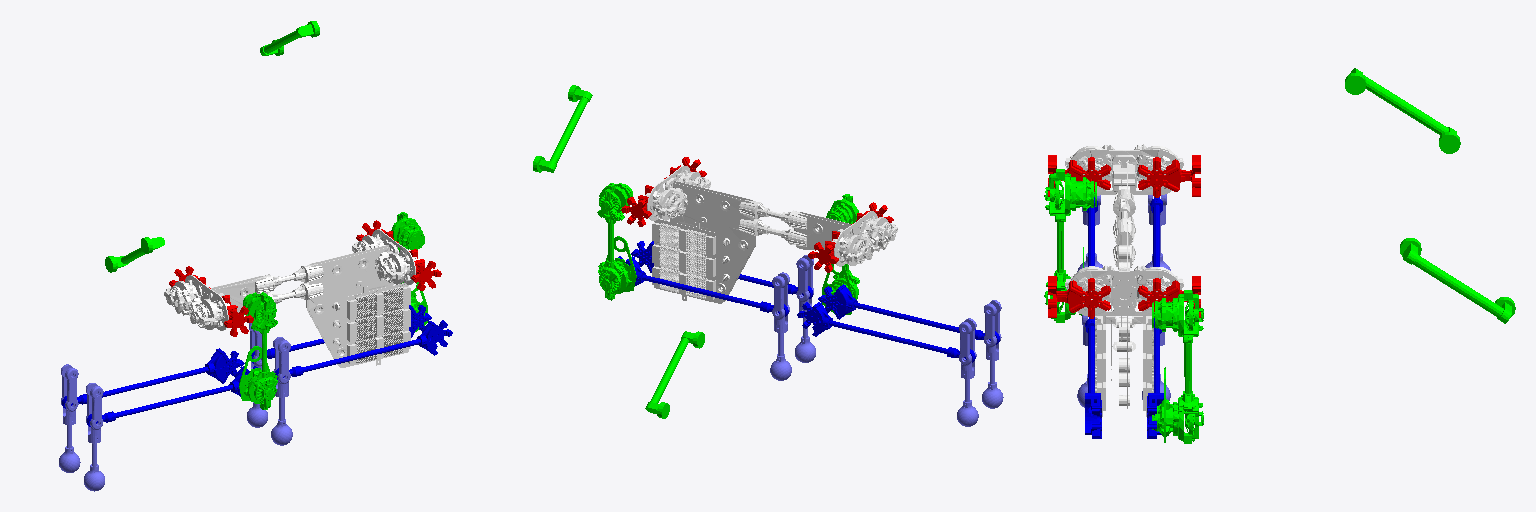
The robot description file, URDF, robot "husky":
<?xml version="1.0" encoding="utf-8"?>
<!-- This URDF was automatically created by SolidWorks to URDF Exporter! Originally created by [author] ([email redacted]) 
     Commit Version: 1.5.1-0-g916b5db  Build Version: 1.5.7152.31018
     For more information, please see http://wiki.ros.org/sw_urdf_exporter -->
<robot
  name="husky">H = massMatrix(robot)
  <link
    name="Body">
    <inertial>
      <origin
        xyz="0.021107 -5.5457E-05 -0.041523"
        rpy="0 0 0" />
      <mass
        value="0.82235" />
      <inertia
        ixx="0.00045992"
        ixy="8.2923E-13"
        ixz="1.9642E-05"
        iyy="0.00054448"
        iyz="3.0755E-08"
        izz="0.00032373" />
    </inertial>
    <visual>
      <origin
        xyz="0 0 0"
        rpy="0 0 0" />
      <geometry>
        <mesh
          filename="package://husky/meshes/Body.STL" />
      </geometry>
      <material
        name="">
        <color
          rgba="1 1 1 1" />
      </material>
    </visual>
    <collision>
      <origin
        xyz="0 0 0"
        rpy="0 0 0" />
      <geometry>
        <mesh
          filename="package://husky/meshes/Body.STL" />
      </geometry>
    </collision>
  </link>
  <link
    name="hip_rl">
    <inertial>
      <origin
        xyz="0.024751 -0.0025459 -6.0284E-05"
        rpy="0 0 0" />
      <mass
        value="0.035944" />
      <inertia
        ixx="9.4368E-06"
        ixy="2.3932E-06"
        ixz="-7.3784E-08"
        iyy="2.7076E-05"
        iyz="5.0995E-09"
        izz="2.4422E-05" />
    </inertial>
    <visual>
      <origin
        xyz="0 0 0"
        rpy="0 0 0" />
      <geometry>
        <mesh
          filename="package://husky/meshes/hip_rl.STL" />
      </geometry>
      <material
        name="">
        <color
          rgba="1 0 0 1" />
      </material>
    </visual>
    <collision>
      <origin
        xyz="0 0 0"
        rpy="0 0 0" />
      <geometry>
        <mesh
          filename="package://husky/meshes/hip_rl.STL" />
      </geometry>
    </collision>
  </link>
  <joint
    name="hip_rl_ab"
    type="revolute">
    <origin
      xyz="-0.19745 0.045 0"
      rpy="0 0 0" />
    <parent
      link="Body" />
    <child
      link="hip_rl" />
    <axis
      xyz="-1 0 0" />
    <limit
      lower="-3.14"
      upper="3.14"
      effort="1000"
      velocity="1000" />
  </joint>
  <link
    name="femur_rl">
    <inertial>
      <origin
        xyz="-2.704E-07 0.036112 -0.082829"
        rpy="0 0 0" />
      <mass
        value="0.1521" />
      <inertia
        ixx="4.3927E-05"
        ixy="6.9154E-10"
        ixz="-1.8319E-08"
        iyy="6.2109E-05"
        iyz="4.5878E-10"
        izz="2.7563E-05" />
    </inertial>
    <visual>
      <origin
        xyz="0 0 0"
        rpy="0 0 0" />
      <geometry>
        <mesh
          filename="package://husky/meshes/femur_rl.STL" />
      </geometry>
      <material
        name="">
        <color
          rgba="0 1 0 1" />
      </material>
    </visual>
    <collision>
      <origin
        xyz="0 0 0"
        rpy="0 0 0" />
      <geometry>
        <mesh
          filename="package://husky/meshes/femur_rl.STL" />
      </geometry>
    </collision>
  </link>
  <joint
    name="hip_rl_ex"
    type="revolute">
    <origin
      xyz="0.053 -0.007 0"
      rpy="0 0 0" />
    <parent
      link="hip_rl" />
    <child
      link="femur_rl" />
    <axis
      xyz="0 1 0" />
    <limit
      lower="-3.14"
      upper="3.14"
      effort="1000"
      velocity="1000" />
  </joint>
  <link
    name="tibia_rl">
    <inertial>
      <origin
        xyz="-0.10575 0.0039831 1.084E-05"
        rpy="0 0 0" />
      <mass
        value="0.038628" />
      <inertia
        ixx="7.1252E-06"
        ixy="1.0931E-06"
        ixz="-8.0061E-10"
        iyy="3.484E-05"
        iyz="-1.6386E-09"
        izz="2.9866E-05" />
    </inertial>
    <visual>
      <origin
        xyz="0 0 0"
        rpy="0 0 0" />
      <geometry>
        <mesh
          filename="package://husky/meshes/tibia_rl.STL" />
      </geometry>
      <material
        name="">
        <color
          rgba="0 0 1 1" />
      </material>
    </visual>
    <collision>
      <origin
        xyz="0 0 0"
        rpy="0 0 0" />
      <geometry>
        <mesh
          filename="package://husky/meshes/tibia_rl.STL" />
      </geometry>
    </collision>
  </link>
  <joint
    name="knee_rl"
    type="revolute">
    <origin
      xyz="0 0 -0.158"
      rpy="0 0 0" />
    <parent
      link="femur_rl" />
    <child
      link="tibia_rl" />
    <axis
      xyz="0 -1 0" />
    <limit
      lower="-3.14"
      upper="3.14"
      effort="1000"
      velocity="1000" />
  </joint>
  <link
    name="tarsus_rl">
    <inertial>
      <origin
        xyz="3.6446E-11 2.4923E-10 -0.054555"
        rpy="0 0 0" />
      <mass
        value="0.18284" />
      <inertia
        ixx="0.00012076"
        ixy="-8.5139E-12"
        ixz="-6.9478E-13"
        iyy="0.00011699"
        iyz="3.7744E-12"
        izz="2.5133E-05" />
    </inertial>
    <visual>
      <origin
        xyz="0 0 0"
        rpy="0 0 0" />
      <geometry>
        <mesh
          filename="package://husky/meshes/tarsus_rl.STL" />
      </geometry>
      <material
        name="">
        <color
          rgba="0.5 0.5 1 1" />
      </material>
    </visual>
    <collision>
      <origin
        xyz="0 0 0"
        rpy="0 0 0" />
      <geometry>
        <mesh
          filename="package://husky/meshes/tarsus_rl.STL" />
      </geometry>
    </collision>
  </link>
  <joint
    name="ankle_rl"
    type="revolute">
    <origin
      xyz="-0.333 0.0075 0"
      rpy="0 0 0" />
    <parent
      link="tibia_rl" />
    <child
      link="tarsus_rl" />
    <axis
      xyz="0 -1 0" />
    <limit
      lower="-3.14"
      upper="3.14"
      effort="1000"
      velocity="1000" />
  </joint>
  <link
    name="hip_rr">
    <inertial>
      <origin
        xyz="0.024751 0.0025459 6.0284E-05"
        rpy="0 0 0" />
      <mass
        value="0.035944" />
      <inertia
        ixx="9.4368E-06"
        ixy="-2.3932E-06"
        ixz="7.3784E-08"
        iyy="2.7076E-05"
        iyz="5.0995E-09"
        izz="2.4422E-05" />
    </inertial>
    <visual>
      <origin
        xyz="0 0 0"
        rpy="0 0 0" />
      <geometry>
        <mesh
          filename="package://husky/meshes/hip_rr.STL" />
      </geometry>
      <material
        name="">
        <color
          rgba="1 0 0 1" />
      </material>
    </visual>
    <collision>
      <origin
        xyz="0 0 0"
        rpy="0 0 0" />
      <geometry>
        <mesh
          filename="package://husky/meshes/hip_rr.STL" />
      </geometry>
    </collision>
  </link>
  <joint
    name="hip_rr_ab"
    type="revolute">
    <origin
      xyz="-0.19745 -0.045 0"
      rpy="0 0 0" />
    <parent
      link="Body" />
    <child
      link="hip_rr" />
    <axis
      xyz="-1 0 0" />
    <limit
      lower="-3.14"
      upper="3.14"
      effort="1000"
      velocity="1000" />
  </joint>
  <link
    name="femur_rr">
    <inertial>
      <origin
        xyz="2.704E-07 -0.036112 -0.082829"
        rpy="0 0 0" />
      <mass
        value="0.1521" />
      <inertia
        ixx="4.3927E-05"
        ixy="6.9154E-10"
        ixz="1.8319E-08"
        iyy="6.2109E-05"
        iyz="-4.5879E-10"
        izz="2.7563E-05" />
    </inertial>
    <visual>
      <origin
        xyz="0 0 0"
        rpy="0 0 0" />
      <geometry>
        <mesh
          filename="package://husky/meshes/femur_rr.STL" />
      </geometry>
      <material
        name="">
        <color
          rgba="0 1 0 1" />
      </material>
    </visual>
    <collision>
      <origin
        xyz="0 0 0"
        rpy="0 0 0" />
      <geometry>
        <mesh
          filename="package://husky/meshes/femur_rr.STL" />
      </geometry>
    </collision>
  </link>
  <joint
    name="hip_rr_ex"
    type="revolute">
    <origin
      xyz="0.053 0.007 0"
      rpy="0 0 0" />
    <parent
      link="hip_rr" />
    <child
      link="femur_rr" />
    <axis
      xyz="0 -1 0" />
    <limit
      lower="-3.14"
      upper="3.14"
      effort="1000"
      velocity="1000" />
  </joint>
  <link
    name="tibia_rr">
    <inertial>
      <origin
        xyz="-0.10575 -0.0039831 -1.084E-05"
        rpy="0 0 0" />
      <mass
        value="0.038628" />
      <inertia
        ixx="7.1252E-06"
        ixy="-1.0931E-06"
        ixz="8.0091E-10"
        iyy="3.484E-05"
        iyz="-1.6386E-09"
        izz="2.9866E-05" />
    </inertial>
    <visual>
      <origin
        xyz="0 0 0"
        rpy="0 0 0" />
      <geometry>
        <mesh
          filename="package://husky/meshes/tibia_rr.STL" />
      </geometry>
      <material
        name="">
        <color
          rgba="0 0 1 1" />
      </material>
    </visual>
    <collision>
      <origin
        xyz="0 0 0"
        rpy="0 0 0" />
      <geometry>
        <mesh
          filename="package://husky/meshes/tibia_rr.STL" />
      </geometry>
    </collision>
  </link>
  <joint
    name="knee_rr"
    type="revolute">
    <origin
      xyz="0 0 -0.158"
      rpy="0 0 0" />
    <parent
      link="femur_rr" />
    <child
      link="tibia_rr" />
    <axis
      xyz="0 1 0" />
    <limit
      lower="-3.14"
      upper="3.14"
      effort="1000"
      velocity="1000" />
  </joint>
  <link
    name="tarsus_rr">
    <inertial>
      <origin
        xyz="-3.6453E-11 -2.4587E-10 -0.054555"
        rpy="0 0 0" />
      <mass
        value="0.18284" />
      <inertia
        ixx="0.00012076"
        ixy="-8.5139E-12"
        ixz="6.9478E-13"
        iyy="0.00011699"
        iyz="-3.7744E-12"
        izz="2.5133E-05" />
    </inertial>
    <visual>
      <origin
        xyz="0 0 0"
        rpy="0 0 0" />
      <geometry>
        <mesh
          filename="package://husky/meshes/tarsus_rr.STL" />
      </geometry>
      <material
        name="">
        <color
          rgba="0.5 0.5 1 1" />
      </material>
    </visual>
    <collision>
      <origin
        xyz="0 0 0"
        rpy="0 0 0" />
      <geometry>
        <mesh
          filename="package://husky/meshes/tarsus_rr.STL" />
      </geometry>
    </collision>
  </link>
  <joint
    name="ankle_rr"
    type="revolute">
    <origin
      xyz="-0.333 -0.0075 0"
      rpy="0 0 0" />
    <parent
      link="tibia_rr" />
    <child
      link="tarsus_rr" />
    <axis
      xyz="0 1 0" />
    <limit
      lower="-3.14"
      upper="3.14"
      effort="1000"
      velocity="1000" />
  </joint>
  <link
    name="hip_fl">
    <inertial>
      <origin
        xyz="0.024751 -0.0025459 -6.0284E-05"
        rpy="0 0 0" />
      <mass
        value="0.035944" />
      <inertia
        ixx="9.4368E-06"
        ixy="2.3932E-06"
        ixz="-7.3784E-08"
        iyy="2.7076E-05"
        iyz="5.0995E-09"
        izz="2.4422E-05" />
    </inertial>
    <visual>
      <origin
        xyz="0 0 0"
        rpy="0 0 0" />
      <geometry>
        <mesh
          filename="package://husky/meshes/hip_fl.STL" />
      </geometry>
      <material
        name="">
        <color
          rgba="1 0 0 1" />
      </material>
    </visual>
    <collision>
      <origin
        xyz="0 0 0"
        rpy="0 0 0" />
      <geometry>
        <mesh
          filename="package://husky/meshes/hip_fl.STL" />
      </geometry>
    </collision>
  </link>
  <joint
    name="hip_fl_ab"
    type="revolute">
    <origin
      xyz="0.19745 0.045 0"
      rpy="0 0 0" />
    <parent
      link="Body" />
    <child
      link="hip_fl" />
    <axis
      xyz="-1 0 0" />
    <limit
      lower="-3.14"
      upper="3.14"
      effort="1000"
      velocity="1000" />
  </joint>
  <link
    name="femur_fl">
    <inertial>
      <origin
        xyz="-2.7039E-07 0.036112 -0.082829"
        rpy="0 0 0" />
      <mass
        value="0.1521" />
      <inertia
        ixx="4.3927E-05"
        ixy="6.9154E-10"
        ixz="-1.8319E-08"
        iyy="6.2109E-05"
        iyz="4.5877E-10"
        izz="2.7563E-05" />
    </inertial>
    <visual>
      <origin
        xyz="0 0 0"
        rpy="0 0 0" />
      <geometry>
        <mesh
          filename="package://husky/meshes/femur_fl.STL" />
      </geometry>
      <material
        name="">
        <color
          rgba="0 1 0 1" />
      </material>
    </visual>
    <collision>
      <origin
        xyz="0 0 0"
        rpy="0 0 0" />
      <geometry>
        <mesh
          filename="package://husky/meshes/femur_fl.STL" />
      </geometry>
    </collision>
  </link>
  <joint
    name="hip_fl_ex"
    type="revolute">
    <origin
      xyz="0.053 -0.007 0"
      rpy="0 0 0" />
    <parent
      link="hip_fl" />
    <child
      link="femur_fl" />
    <axis
      xyz="0 1 0" />
    <limit
      lower="-3.14"
      upper="3.14"
      effort="1000"
      velocity="1000" />
  </joint>
  <link
    name="tibia_fl">
    <inertial>
      <origin
        xyz="-0.10575 0.0039831 1.084E-05"
        rpy="0 0 0" />
      <mass
        value="0.038628" />
      <inertia
        ixx="7.1252E-06"
        ixy="1.0931E-06"
        ixz="-8.0093E-10"
        iyy="3.484E-05"
        iyz="-1.6386E-09"
        izz="2.9866E-05" />
    </inertial>
    <visual>
      <origin
        xyz="0 0 0"
        rpy="0 0 0" />
      <geometry>
        <mesh
          filename="package://husky/meshes/tibia_fl.STL" />
      </geometry>
      <material
        name="">
        <color
          rgba="0 0 1 1" />
      </material>
    </visual>
    <collision>
      <origin
        xyz="0 0 0"
        rpy="0 0 0" />
      <geometry>
        <mesh
          filename="package://husky/meshes/tibia_fl.STL" />
      </geometry>
    </collision>
  </link>
  <joint
    name="knee_fl"
    type="revolute">
    <origin
      xyz="0 0 -0.158"
      rpy="0 0 0" />
    <parent
      link="femur_fl" />
    <child
      link="tibia_fl" />
    <axis
      xyz="0 -1 0" />
    <limit
      lower="-3.14"
      upper="3.14"
      effort="1000"
      velocity="1000" />
  </joint>
  <link
    name="tarsus_fl">
    <inertial>
      <origin
        xyz="-3.6453E-11 -2.4587E-10 -0.054555"
        rpy="0 0 0" />
      <mass
        value="0.18284" />
      <inertia
        ixx="0.00012076"
        ixy="-8.5139E-12"
        ixz="6.9478E-13"
        iyy="0.00011699"
        iyz="-3.7744E-12"
        izz="2.5133E-05" />
    </inertial>
    <visual>
      <origin
        xyz="0 0 0"
        rpy="0 0 0" />
      <geometry>
        <mesh
          filename="package://husky/meshes/tarsus_fl.STL" />
      </geometry>
      <material
        name="">
        <color
          rgba="0.5 0.5 1 1" />
      </material>
    </visual>
    <collision>
      <origin
        xyz="0 0 0"
        rpy="0 0 0" />
      <geometry>
        <mesh
          filename="package://husky/meshes/tarsus_fl.STL" />
      </geometry>
    </collision>
  </link>
  <joint
    name="ankle_fl"
    type="revolute">
    <origin
      xyz="-0.333 0.006 0"
      rpy="0 0 0" />
    <parent
      link="tibia_fl" />
    <child
      link="tarsus_fl" />
    <axis
      xyz="0 1 0" />
    <limit
      lower="-3.14"
      upper="3.14"
      effort="1000"
      velocity="1000" />
  </joint>
  <link
    name="hip_fr">
    <inertial>
      <origin
        xyz="0.024751 0.0025459 6.0284E-05"
        rpy="0 0 0" />
      <mass
        value="0.03503" />
      <inertia
        ixx="9.1969E-06"
        ixy="-2.3323E-06"
        ixz="7.1908E-08"
        iyy="2.6388E-05"
        iyz="4.9699E-09"
        izz="2.3801E-05" />
    </inertial>
    <visual>
      <origin
        xyz="0 0 0"
        rpy="0 0 0" />
      <geometry>
        <mesh
          filename="package://husky/meshes/hip_fr.STL" />
      </geometry>
      <material
        name="">
        <color
          rgba="1 0 0 1" />
      </material>
    </visual>
    <collision>
      <origin
        xyz="0 0 0"
        rpy="0 0 0" />
      <geometry>
        <mesh
          filename="package://husky/meshes/hip_fr.STL" />
      </geometry>
    </collision>
  </link>
  <joint
    name="hip_fr_ab"
    type="revolute">
    <origin
      xyz="0.19745 -0.045 0"
      rpy="0 0 0" />
    <parent
      link="Body" />
    <child
      link="hip_fr" />
    <axis
      xyz="-1 0 0" />
    <limit
      lower="-3.14"
      upper="3.14"
      effort="1000"
      velocity="1000" />
  </joint>
  <link
    name="femur_fr">
    <inertial>
      <origin
        xyz="2.7041E-07 -0.036112 -0.082829"
        rpy="0 0 0" />
      <mass
        value="0.41066" />
      <inertia
        ixx="0.0001186"
        ixy="1.8672E-09"
        ixz="4.946E-08"
        iyy="0.0001677"
        iyz="-1.2387E-09"
        izz="7.442E-05" />
    </inertial>
    <visual>
      <origin
        xyz="0 0 0"
        rpy="0 0 0" />
      <geometry>
        <mesh
          filename="package://husky/meshes/femur_fr.STL" />
      </geometry>
      <material
        name="">
        <color
          rgba="0 1 0 1" />
      </material>
    </visual>
    <collision>
      <origin
        xyz="0 0 0"
        rpy="0 0 0" />
      <geometry>
        <mesh
          filename="package://husky/meshes/femur_fr.STL" />
      </geometry>
    </collision>
  </link>
  <joint
    name="hip_fr_ex"
    type="revolute">
    <origin
      xyz="0.053 0.007 0"
      rpy="0 0 0" />
    <parent
      link="hip_fr" />
    <child
      link="femur_fr" />
    <axis
      xyz="0 1 0" />
    <limit
      lower="-3.14"
      upper="3.14"
      effort="1000"
      velocity="1000" />
  </joint>
  <link
    name="tibia_fr">
    <inertial>
      <origin
        xyz="-0.10575 -0.0039831 -1.0841E-05"
        rpy="0 0 0" />
      <mass
        value="0.038628" />
      <inertia
        ixx="7.1252E-06"
        ixy="-1.0931E-06"
        ixz="8.012E-10"
        iyy="3.484E-05"
        iyz="-1.6385E-09"
        izz="2.9866E-05" />
    </inertial>
    <visual>
      <origin
        xyz="0 0 0"
        rpy="0 0 0" />
      <geometry>
        <mesh
          filename="package://husky/meshes/tibia_fr.STL" />
      </geometry>
      <material
        name="">
        <color
          rgba="0 0 1 1" />
      </material>
    </visual>
    <collision>
      <origin
        xyz="0 0 0"
        rpy="0 0 0" />
      <geometry>
        <mesh
          filename="package://husky/meshes/tibia_fr.STL" />
      </geometry>
    </collision>
  </link>
  <joint
    name="knee_fr"
    type="revolute">
    <origin
      xyz="0 0 -0.158"
      rpy="0 0 0" />
    <parent
      link="femur_fr" />
    <child
      link="tibia_fr" />
    <axis
      xyz="0 1 0" />
    <limit
      lower="-3.14"
      upper="3.14"
      effort="1000"
      velocity="1000" />
  </joint>
  <link
    name="tarsus_fr">
    <inertial>
      <origin
        xyz="3.6446E-11 2.4923E-10 -0.054555"
        rpy="0 0 0" />
      <mass
        value="0.18284" />
      <inertia
        ixx="0.00012076"
        ixy="-8.5139E-12"
        ixz="-6.9478E-13"
        iyy="0.00011699"
        iyz="3.7744E-12"
        izz="2.5133E-05" />
    </inertial>
    <visual>
      <origin
        xyz="0 0 0"
        rpy="0 0 0" />
      <geometry>
        <mesh
          filename="package://husky/meshes/tarsus_fr.STL" />
      </geometry>
      <material
        name="">
        <color
          rgba="0.5 0.5 1 1" />
      </material>
    </visual>
    <collision>
      <origin
        xyz="0 0 0"
        rpy="0 0 0" />
      <geometry>
        <mesh
          filename="package://husky/meshes/tarsus_fr.STL" />
      </geometry>
    </collision>
  </link>
  <joint
    name="ankle_fr"
    type="revolute">
    <origin
      xyz="-0.333 -0.007 0"
      rpy="0 0 0" />
    <parent
      link="tibia_fr" />
    <child
      link="tarsus_fr" />
    <axis
      xyz="0 -1 0" />
    <limit
      lower="-3.14"
      upper="3.14"
      effort="1000"
      velocity="1000" />
  </joint>
</robot>

--- What the picture shows (computed from the rendered views, not written in the file) ---
Views: 3 orthographic renders of the robot side by side, from view 1: azimuth 30°, elevation 25°; view 2: azimuth 150°, elevation 25°; view 3: azimuth 270°, elevation 25°.
Robot: husky — 17 links, 16 joints (16 revolute); root link Body; default pose: every joint at zero.
Links seen in each view (by area): view 1: Body, femur_rr, tibia_rl, tibia_fr, tarsus_rl, tarsus_rr, tarsus_fr, femur_fl, tibia_rr, femur_rl, femur_fr, tarsus_fl (+3 smaller); view 2: Body, femur_fl, tibia_rl, tibia_rr, tarsus_fl, tarsus_rl, tarsus_rr, femur_rr, tarsus_fr, femur_fr, femur_rl, tibia_fl (+3 smaller); view 3: Body, femur_fl, femur_rr, femur_rl, femur_fr, hip_rl, hip_fr, tibia_fr, hip_fl, tibia_fl, hip_rr, tibia_rl.
Link boxes in pixels (<box>): Body: <box>164,229,417,367</box>; femur_rr: <box>239,292,277,409</box>; tibia_rl: <box>62,348,244,408</box>; tibia_fr: <box>275,320,452,379</box>; tarsus_rl: <box>59,364,80,472</box>; tarsus_rr: <box>84,383,104,491</box>; tarsus_fr: <box>271,337,292,445</box>; femur_fl: <box>391,212,427,331</box>; tibia_rr: <box>87,366,257,426</box>; femur_rl: <box>105,237,164,272</box>; femur_fr: <box>260,21,319,55</box>; tarsus_fl: <box>247,323,267,427</box>; Body: <box>645,166,897,303</box>; femur_fl: <box>597,183,636,300</box>; tibia_rl: <box>797,302,975,362</box>; tibia_rr: <box>818,284,999,344</box>; tarsus_fl: <box>770,272,791,380</box>; tarsus_rl: <box>957,318,978,426</box>; tarsus_rr: <box>982,300,1003,408</box>; femur_rr: <box>822,194,859,314</box>; tarsus_fr: <box>795,255,815,362</box>; femur_fr: <box>533,85,592,172</box>; femur_rl: <box>645,331,704,418</box>; tibia_fl: <box>618,256,788,316</box>; Body: <box>1065,144,1183,416</box>; femur_fl: <box>1152,290,1203,443</box>; femur_rr: <box>1044,169,1096,322</box>; femur_rl: <box>1400,238,1515,323</box>; femur_fr: <box>1345,68,1460,153</box>; hip_rl: <box>1138,155,1200,197</box>; hip_fr: <box>1048,276,1110,318</box>; tibia_fr: <box>1085,317,1101,438</box>; hip_fl: <box>1138,276,1200,317</box>; tibia_fl: <box>1147,318,1163,438</box>; hip_rr: <box>1048,155,1110,196</box>; tibia_rl: <box>1150,197,1162,266</box>.
Size in the robot's own frame: 0.7815 by 0.6508 by 0.6395 metres.
17 mesh visuals loaded from 17 distinct referenced files (17 binary STL).